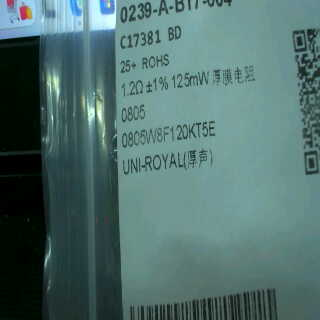1.2R: (119, 78, 148, 127)
